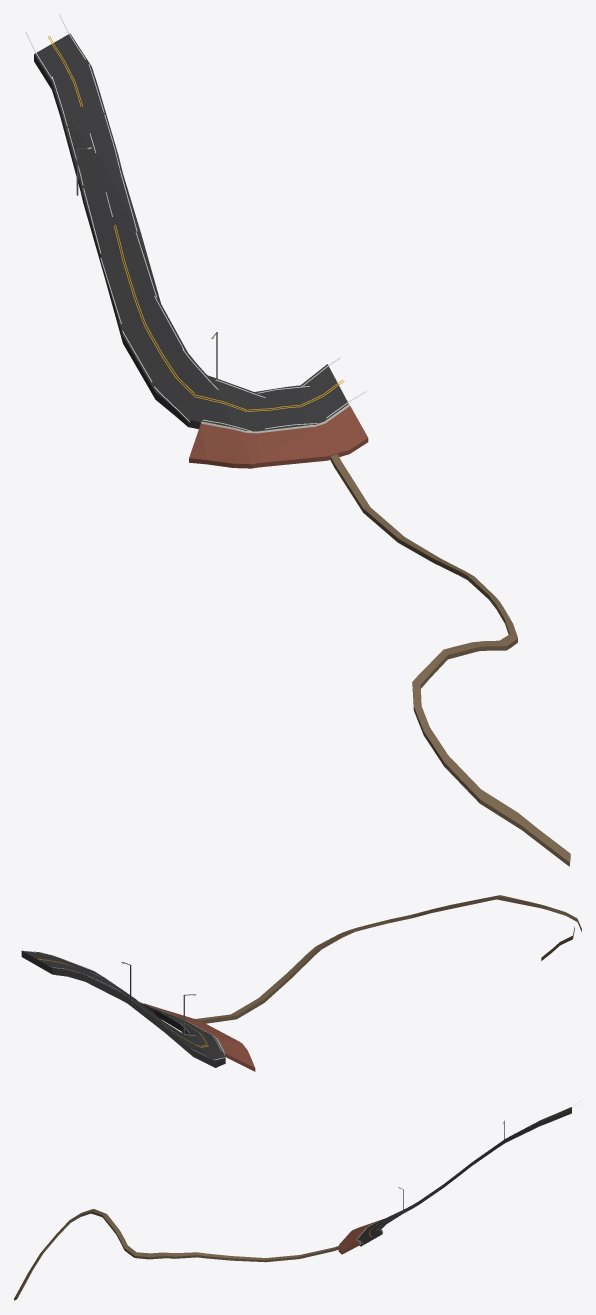
The picture shows the model from 3 angles, top to bottom: view 1: azimuth 30°, elevation 25°; view 2: azimuth 150°, elevation 25°; view 3: azimuth 270°, elevation 25°; orthographic projection. The views are drawn at different scales.
Bounding box in the file's own units: 40.08 × 68.2 × 166.
